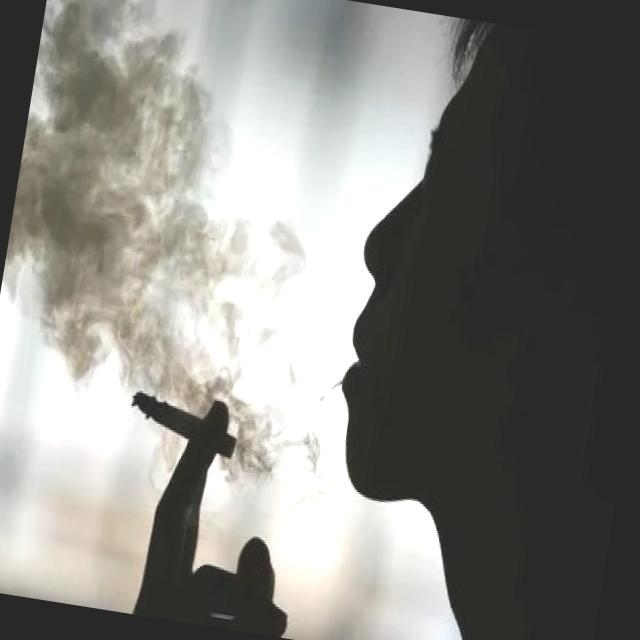cigarette: (122, 387, 242, 458)
